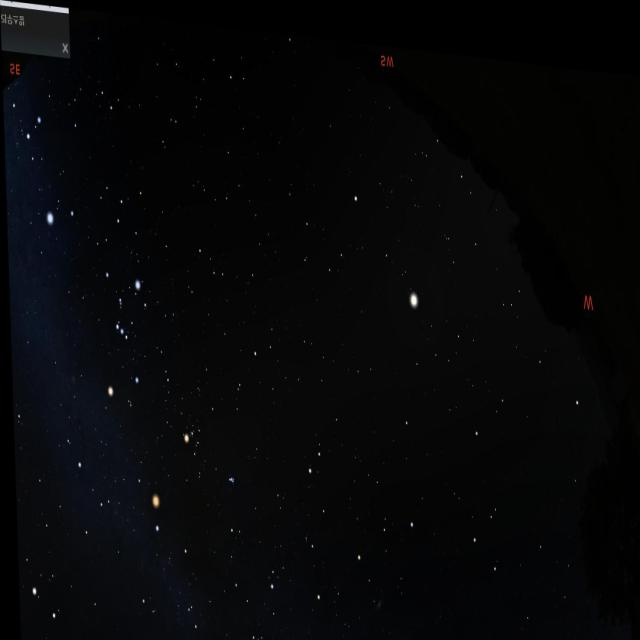canis_major: (20, 97, 80, 231)
canis_minor: (9, 368, 32, 443)
gemini: (20, 459, 122, 632)
orion: (93, 264, 147, 412)
pleiades: (223, 458, 236, 484)
taurus: (176, 391, 245, 521)
